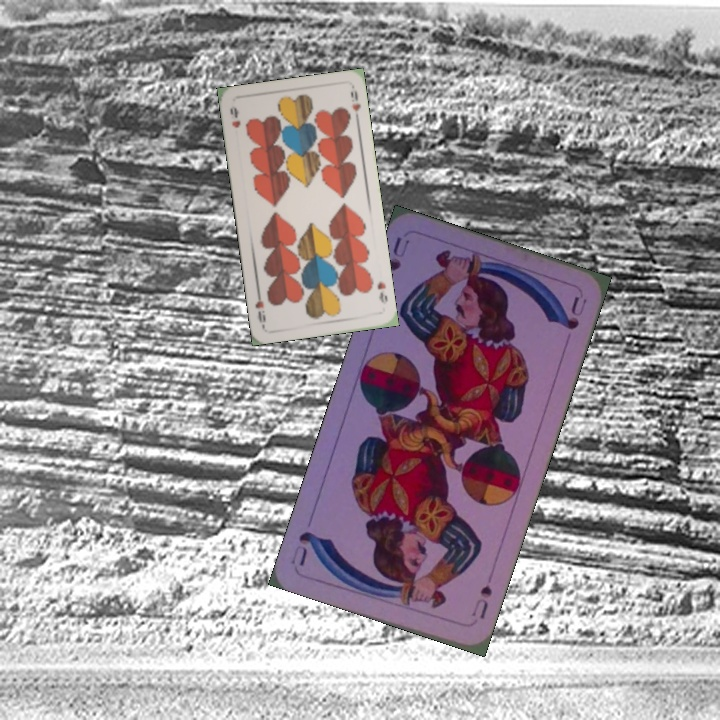H9: (373, 278, 390, 307), (226, 102, 243, 130)
SU: (467, 569, 496, 622), (384, 232, 412, 274)
